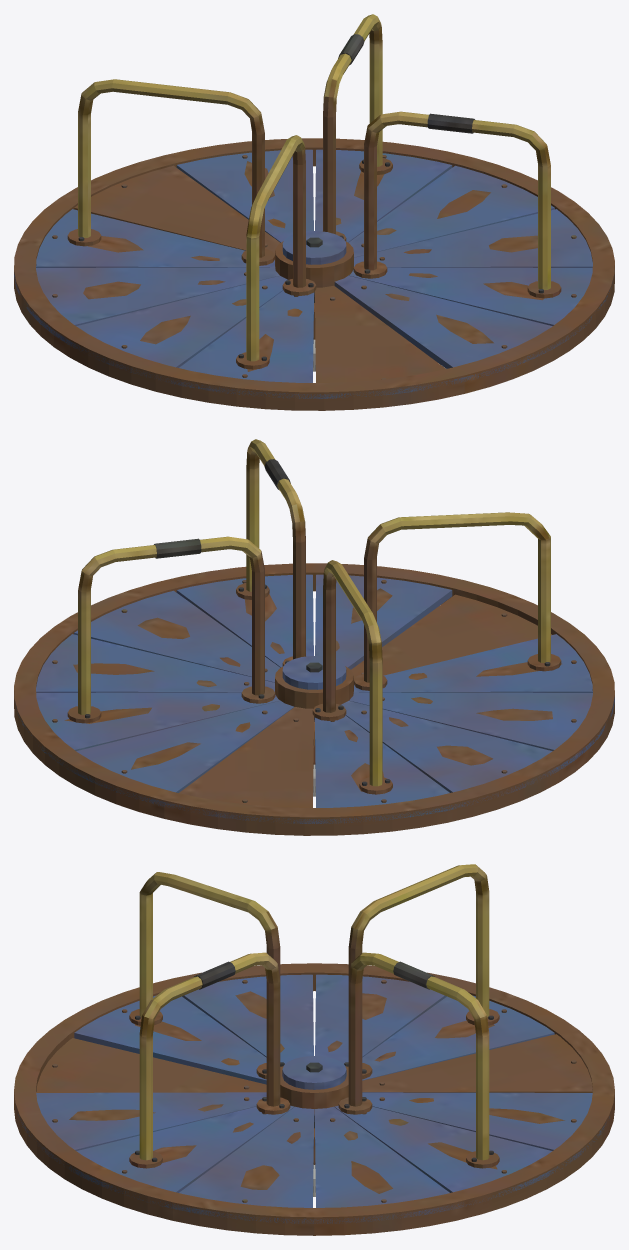
Rendered from S09_merry_go_round_playground.glb.
3 renders of one model, top to bottom at view 1: azimuth 30°, elevation 25°; view 2: azimuth 150°, elevation 25°; view 3: azimuth 270°, elevation 25°, orthographic.
Parts seen in each view (by area): view 1: Weathered_anchor_footing; view 2: Weathered_anchor_footing; view 3: Weathered_anchor_footing.
Part boxes in pixels (left/top/right/bottom): Weathered_anchor_footing: left=14, top=14, right=614, bottom=410; Weathered_anchor_footing: left=14, top=439, right=614, bottom=835; Weathered_anchor_footing: left=14, top=864, right=614, bottom=1235.
Size of the model in its own units: 2 by 0.8769 by 2.
Materials: 6 (6 with a texture image).
